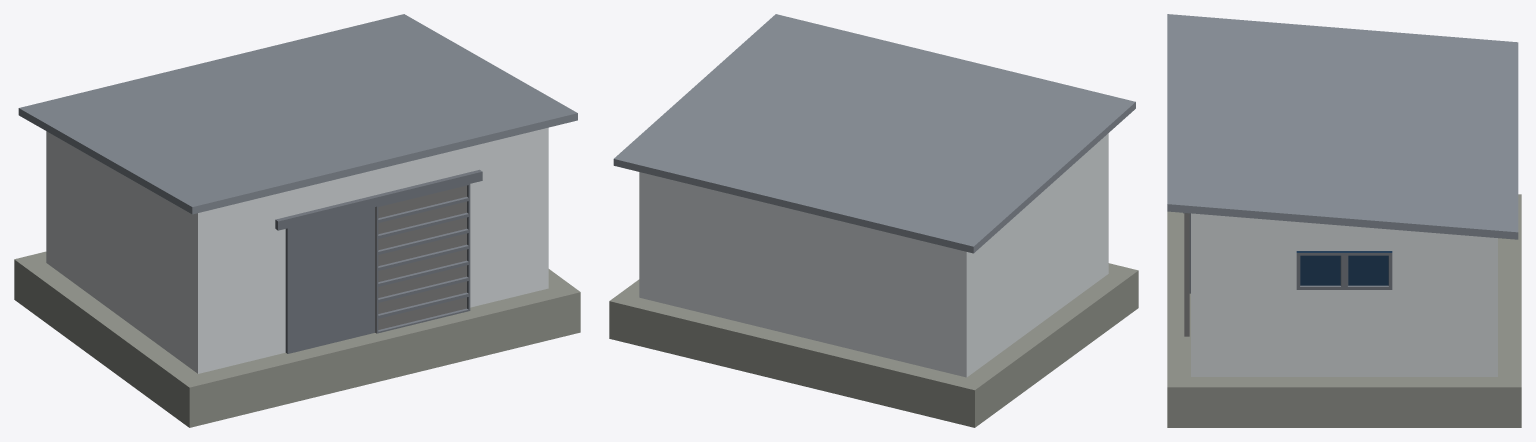
Rendered from mashup-storage-top-prebuilt_close.fbx.
3 renders of one model, left to right at view 1: azimuth 30°, elevation 25°; view 2: azimuth 150°, elevation 25°; view 3: azimuth 270°, elevation 25°, orthographic. The views are drawn at different scales.
Parts seen in each view (by area): view 1: a200.Storage.001; view 2: a200.Storage.001; view 3: a200.Storage.001.
Part boxes in pixels (x1=…): a200.Storage.001: x1=14, y1=14, x2=580, y2=427; a200.Storage.001: x1=609, y1=14, x2=1138, y2=427; a200.Storage.001: x1=1167, y1=14, x2=1521, y2=427.
Bounding box in the file's own units: 6.7 × 3.6 × 5.2.
